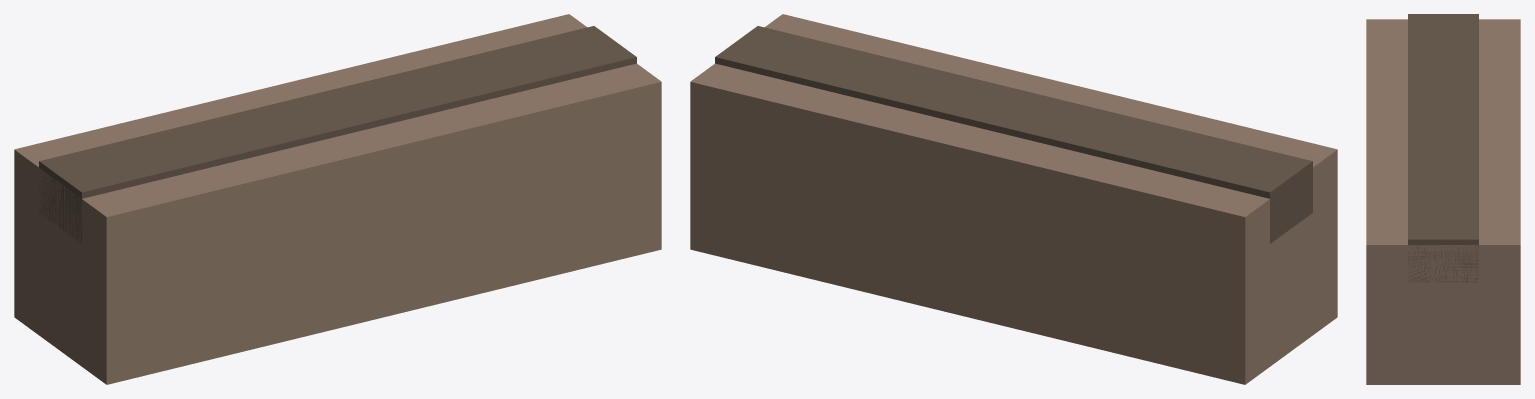
The picture shows the model from 3 angles, left to right: view 1: azimuth 30°, elevation 25°; view 2: azimuth 150°, elevation 25°; view 3: azimuth 270°, elevation 25°; orthographic projection. The views are drawn at different scales.
Parts seen in each view (by area): view 1: worldgen; view 2: worldgen; view 3: worldgen.
Part boxes in pixels (bbox=[...]): worldgen: bbox=[14, 14, 661, 384]; worldgen: bbox=[690, 14, 1337, 384]; worldgen: bbox=[1366, 14, 1520, 384].
Bounding box in the file's own units: 0.9 × 0.27 × 0.26.
